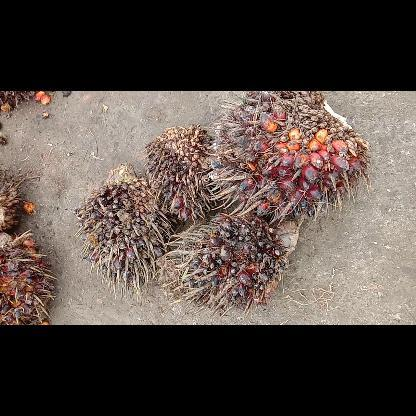TBS abnormal: (74, 164, 174, 288), (164, 216, 300, 306), (142, 126, 218, 218)
TBS masak: (212, 91, 370, 219)
